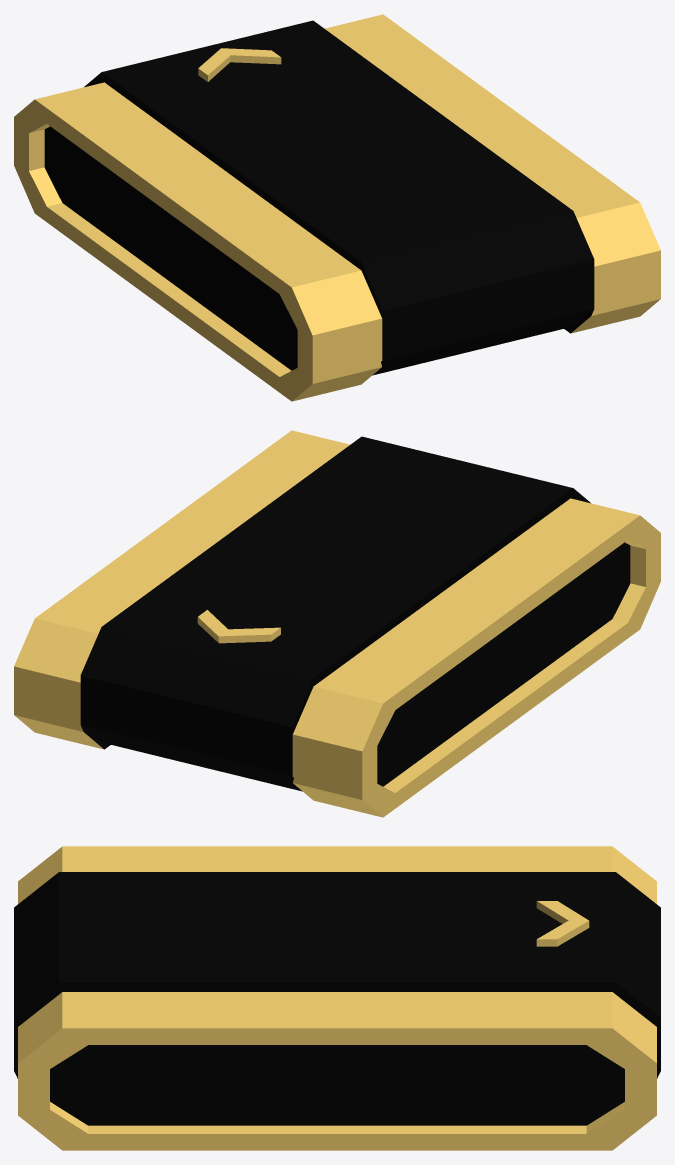
The model's file is TankHull.glb.
3 views of the same model, one above another, from view 1: azimuth 30°, elevation 25°; view 2: azimuth 150°, elevation 25°; view 3: azimuth 270°, elevation 25° (orthographic). The views are drawn at different scales.
Visible parts, largest first — view 1: Cube; view 2: Cube; view 3: Cube.
Part boxes in pixels (left/top/right/bottom): Cube: left=14, top=14, right=660, bottom=401; Cube: left=14, top=430, right=660, bottom=817; Cube: left=14, top=846, right=660, bottom=1150.
Size of the model in its own units: 5.76 by 2.06 by 8.65.
